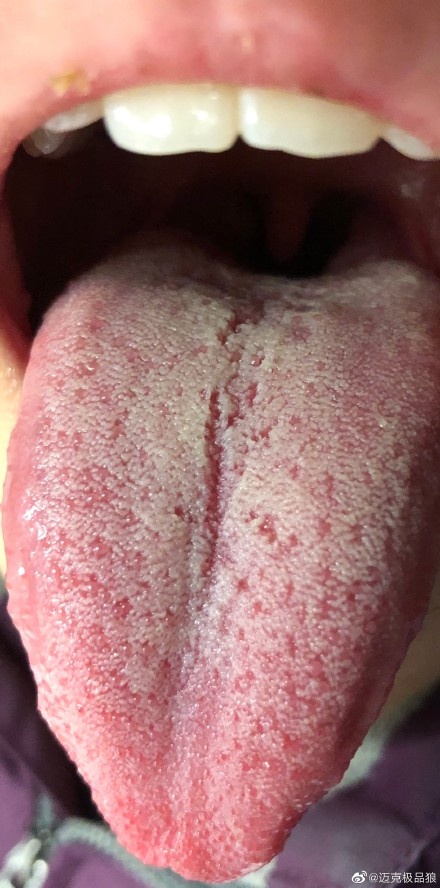baitaishe: (2, 229, 440, 884)
liewenshe: (200, 388, 229, 582)
shenquao: (156, 228, 379, 299)
